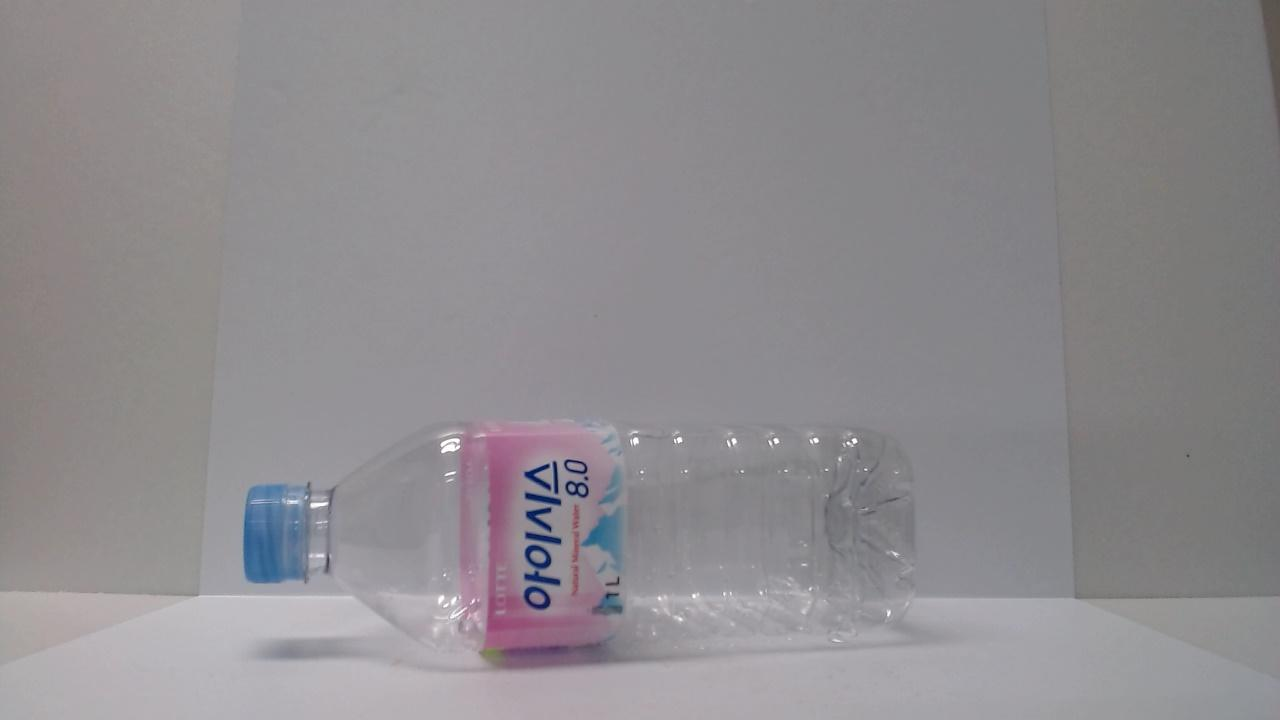bottle: (223, 426, 940, 649)
